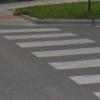crosswalk: (0, 27, 100, 98)
